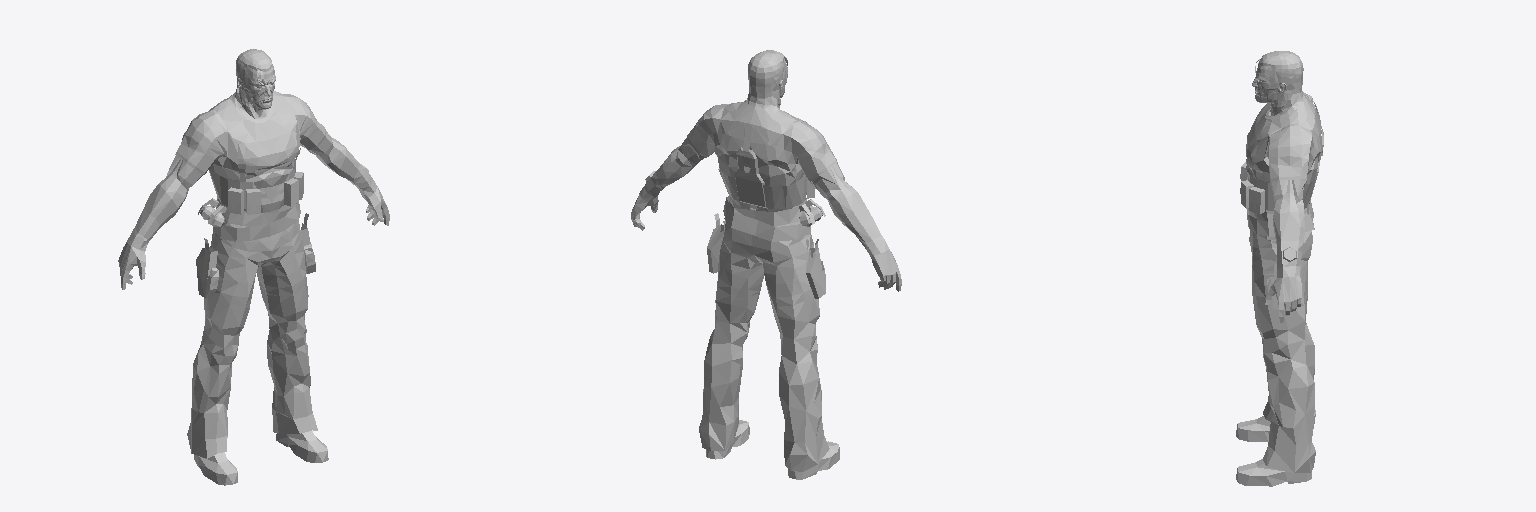
File: pun.obj
3 views of the same model, side by side, from view 1: azimuth 30°, elevation 25°; view 2: azimuth 150°, elevation 25°; view 3: azimuth 270°, elevation 25° (orthographic).
Parts seen in each view (by area): view 1: obj554, obj655; view 2: obj554, obj655; view 3: obj554.
Boxes of the visible parts, <box> form: obj554: <box>118,49,389,485</box>; obj655: <box>196,238,218,296</box>; obj554: <box>631,50,901,479</box>; obj655: <box>805,239,825,298</box>; obj554: <box>1236,51,1323,486</box>.
Bounding box in the file's own units: 11.96 × 17.39 × 3.45.